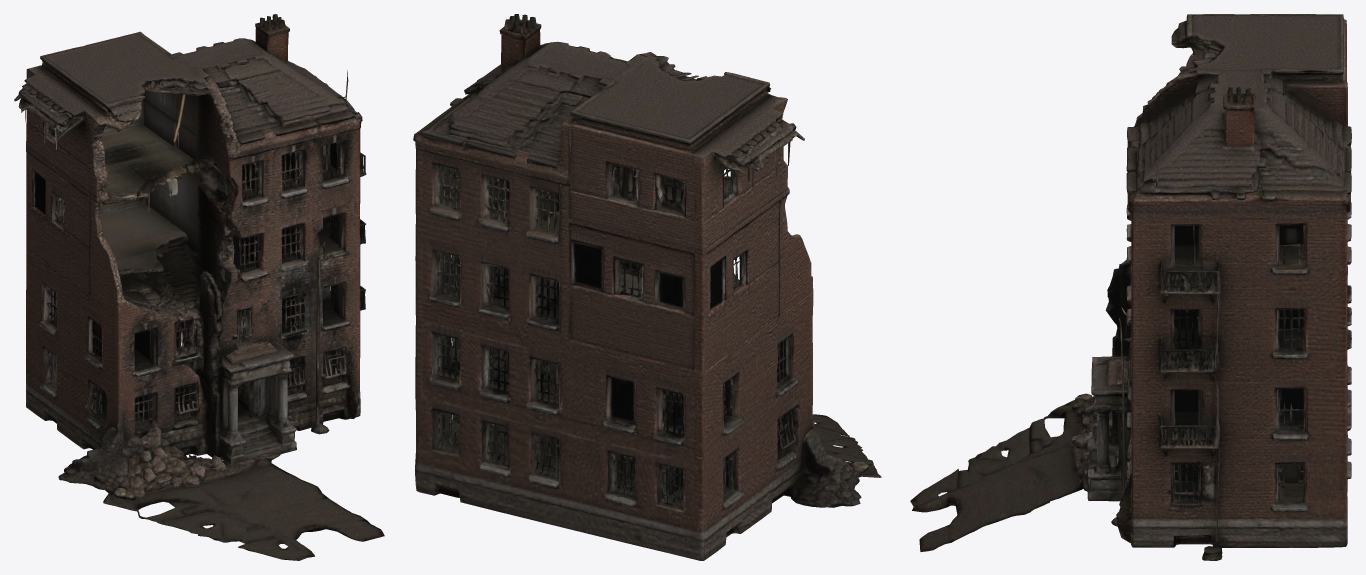
File: town_building_brick.glb
3 renders of one model, left to right at view 1: azimuth 30°, elevation 25°; view 2: azimuth 150°, elevation 25°; view 3: azimuth 270°, elevation 25°, orthographic. The views are drawn at different scales.
Parts seen in each view (by area): view 1: tripo_node_8ec33a98-5131-4648-a27b-b4fbc2b6e430; view 2: tripo_node_8ec33a98-5131-4648-a27b-b4fbc2b6e430; view 3: tripo_node_8ec33a98-5131-4648-a27b-b4fbc2b6e430.
Part boxes in pixels (bbox=[...]): tripo_node_8ec33a98-5131-4648-a27b-b4fbc2b6e430: bbox=[14, 14, 384, 560]; tripo_node_8ec33a98-5131-4648-a27b-b4fbc2b6e430: bbox=[413, 14, 881, 560]; tripo_node_8ec33a98-5131-4648-a27b-b4fbc2b6e430: bbox=[910, 14, 1351, 560].
Bounding box in the file's own units: 0.7882 × 0.9991 × 0.8416.
1 material, 1 textured.
